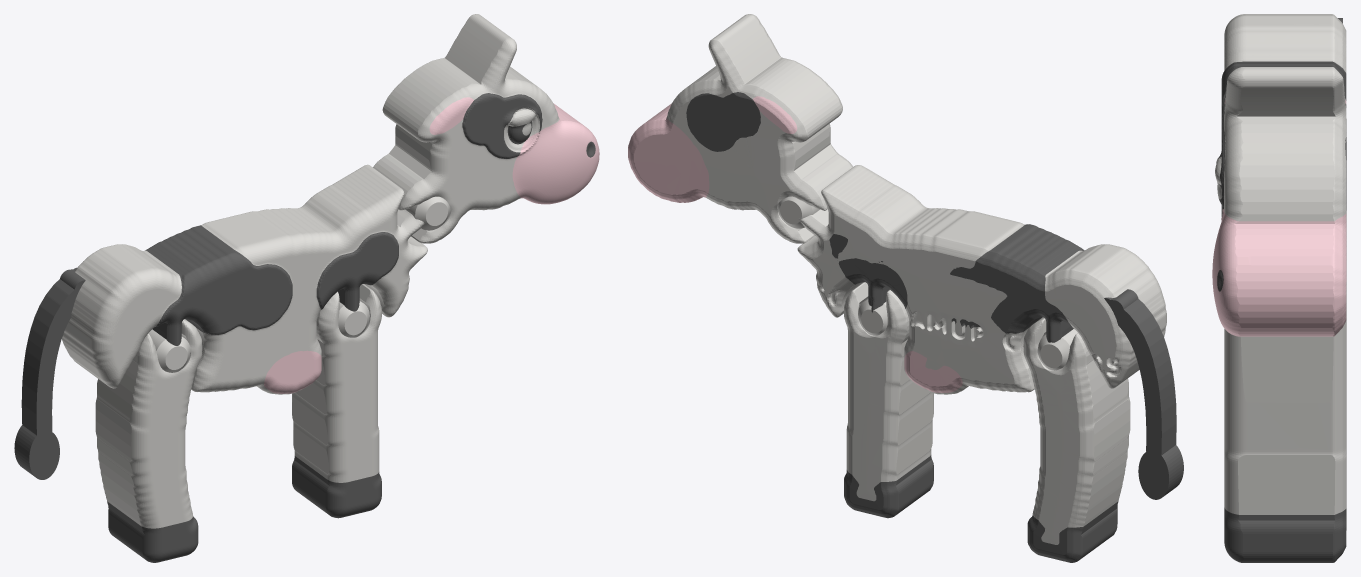
Rendered from CRW-005-articulated-cow.glb.
The picture shows the model from 3 angles, left to right: view 1: azimuth 30°, elevation 25°; view 2: azimuth 150°, elevation 25°; view 3: azimuth 270°, elevation 25°; orthographic projection. The views are drawn at different scales.
Parts seen in each view (by area): view 1: T1 body_tool_1 [PLA Cow White] - body, T1 head_tool_1 [PLA Cow White] - eye highlight, eyelid, eye, T1 rear_leg_tool_1 [PLA Cow White] - body, T2 body_tool_2 [PLA Cow Black] - shoulder patch, flank patch, T1 front_leg_tool_1 [PLA Cow White] - body, T4 tail_tool_4 [TPU Cow Black] - flexible tail + tuft (TPU), T3 head_tool_3 [PLA Cow Pink] - muzzle, inner ear, T2 head_tool_2 [PLA Cow Black] - nostril, eye, eye patch, T2 front_leg_tool_2 [PLA Cow Black] - hoof, T2 rear_leg_tool_2 [PLA Cow Black] - hoof, T3 body_tool_3 [PLA Cow Pink] - udder; view 2: T1 body_tool_1 [PLA Cow White] - body, T1 head_tool_1 [PLA Cow White] - eye highlight, eyelid, eye, T1 rear_leg_tool_1 [PLA Cow White] - body, T1 front_leg_tool_1 [PLA Cow White] - body, T2 body_tool_2 [PLA Cow Black] - shoulder patch, flank patch, T4 tail_tool_4 [TPU Cow Black] - flexible tail + tuft (TPU), T3 head_tool_3 [PLA Cow Pink] - muzzle, inner ear, T2 head_tool_2 [PLA Cow Black] - nostril, eye, eye patch, T2 front_leg_tool_2 [PLA Cow Black] - hoof, T2 rear_leg_tool_2 [PLA Cow Black] - hoof, T3 body_tool_3 [PLA Cow Pink] - udder; view 3: T1 front_leg_tool_1 [PLA Cow White] - body, T1 head_tool_1 [PLA Cow White] - eye highlight, eyelid, eye, T3 head_tool_3 [PLA Cow Pink] - muzzle, inner ear, T1 body_tool_1 [PLA Cow White] - body, T2 front_leg_tool_2 [PLA Cow Black] - hoof, T2 body_tool_2 [PLA Cow Black] - shoulder patch, flank patch, T2 head_tool_2 [PLA Cow Black] - nostril, eye, eye patch.
Boxes of the visible parts, x1,y1,x2,y2 form: T1 body_tool_1 [PLA Cow White] - body: (62, 164, 450, 394); T1 head_tool_1 [PLA Cow White] - eye highlight, eyelid, eye: (373, 14, 559, 243); T1 rear_leg_tool_1 [PLA Cow White] - body: (95, 319, 202, 528); T2 body_tool_2 [PLA Cow Black] - shoulder patch, flank patch: (145, 225, 398, 345); T1 front_leg_tool_1 [PLA Cow White] - body: (292, 284, 381, 482); T4 tail_tool_4 [TPU Cow Black] - flexible tail + tuft (TPU): (14, 267, 85, 479); T3 head_tool_3 [PLA Cow Pink] - muzzle, inner ear: (429, 97, 599, 204); T2 head_tool_2 [PLA Cow Black] - nostril, eye, eye patch: (462, 93, 595, 158); T2 front_leg_tool_2 [PLA Cow Black] - hoof: (292, 456, 381, 518); T2 rear_leg_tool_2 [PLA Cow Black] - hoof: (107, 501, 198, 562); T3 body_tool_3 [PLA Cow Pink] - udder: (264, 350, 321, 393); T1 body_tool_1 [PLA Cow White] - body: (777, 165, 1166, 394); T1 head_tool_1 [PLA Cow White] - eye highlight, eyelid, eye: (666, 14, 853, 243); T1 rear_leg_tool_1 [PLA Cow White] - body: (1023, 317, 1130, 544); T1 front_leg_tool_1 [PLA Cow White] - body: (844, 282, 933, 501); T2 body_tool_2 [PLA Cow Black] - shoulder patch, flank patch: (829, 224, 1084, 342); T4 tail_tool_4 [TPU Cow Black] - flexible tail + tuft (TPU): (1104, 289, 1183, 499); T3 head_tool_3 [PLA Cow Pink] - muzzle, inner ear: (628, 96, 797, 202); T2 head_tool_2 [PLA Cow Black] - nostril, eye, eye patch: (686, 92, 760, 151); T2 front_leg_tool_2 [PLA Cow Black] - hoof: (844, 455, 933, 518); T2 rear_leg_tool_2 [PLA Cow Black] - hoof: (1027, 501, 1118, 562); T3 body_tool_3 [PLA Cow Pink] - udder: (904, 351, 962, 392); T1 front_leg_tool_1 [PLA Cow White] - body: (1224, 312, 1346, 530); T1 head_tool_1 [PLA Cow White] - eye highlight, eyelid, eye: (1215, 67, 1346, 221); T3 head_tool_3 [PLA Cow Pink] - muzzle, inner ear: (1212, 100, 1346, 336); T1 body_tool_1 [PLA Cow White] - body: (1224, 14, 1346, 141); T2 front_leg_tool_2 [PLA Cow Black] - hoof: (1224, 507, 1346, 562); T2 body_tool_2 [PLA Cow Black] - shoulder patch, flank patch: (1221, 61, 1346, 107); T2 head_tool_2 [PLA Cow Black] - nostril, eye, eye patch: (1217, 104, 1346, 291).
Bounding box in the file's own units: 0.1276 × 0.0978 × 0.0203.
